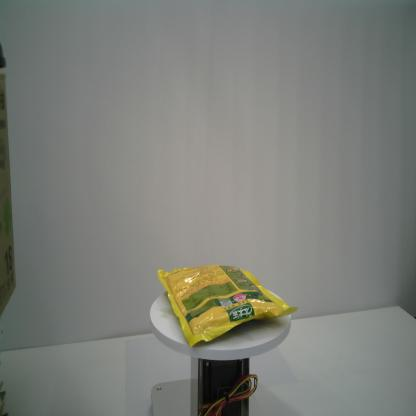Seasoner: (156, 263, 300, 349)
